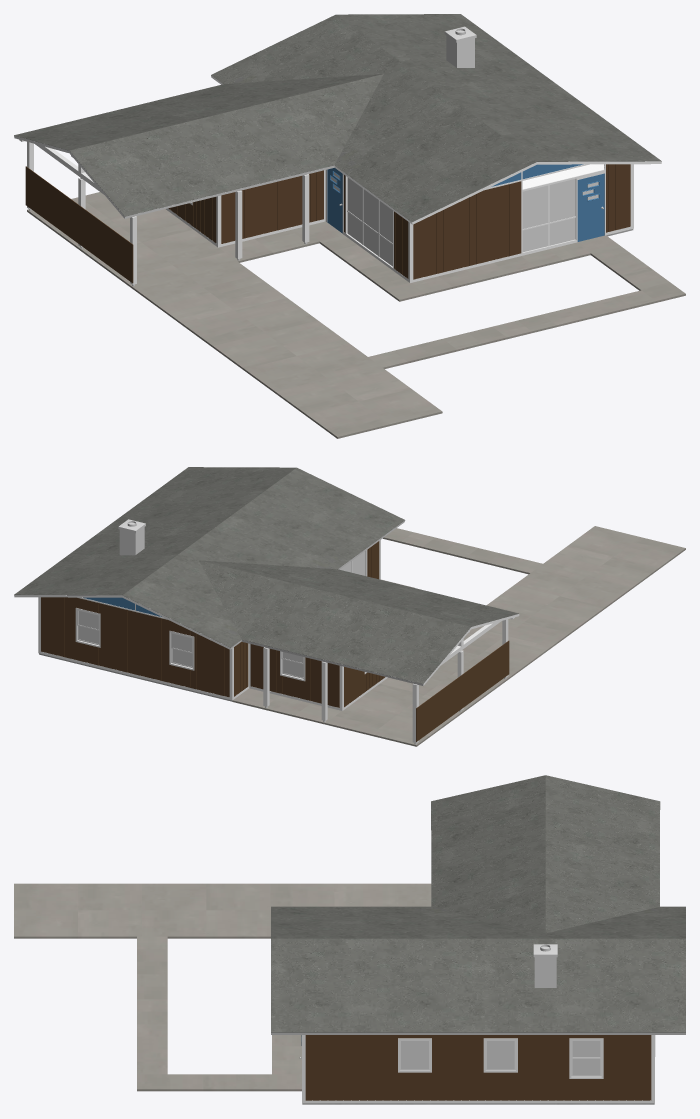
Rendered from casa2b.glb.
The picture shows the model from 3 angles, top to bottom: view 1: azimuth 30°, elevation 25°; view 2: azimuth 150°, elevation 25°; view 3: azimuth 270°, elevation 25°; orthographic projection. The views are drawn at different scales.
Parts seen in each view (by area): view 1: gw-45R3-roof_Asphalt020_0, gw-45R3-concreteTiles_ConcreteSubstance004_0, gw-45R3-walls_plywood_brown_0, gw-45R3-walls_Wood058_0, gw-45R3-window.001_Glass_0, gw-45R3-walls_Accent_Blue_0, gw-45R3-chimney_Metal_White_0; view 2: gw-45R3-roof_Asphalt020_0, gw-45R3-concreteTiles_ConcreteSubstance004_0, gw-45R3-walls_plywood_brown_0, gw-45R3-walls_Wood058_0, gw-45R3-window.001_Glass_0, gw-45R3-chimney_Metal_White_0, gw-45R3-walls_Accent_Blue_0; view 3: gw-45R3-roof_Asphalt020_0, gw-45R3-concreteTiles_ConcreteSubstance004_0, gw-45R3-walls_plywood_brown_0, gw-45R3-walls_Wood058_0, gw-45R3-window.001_Glass_0, gw-45R3-chimney_Metal_White_0, gw-45R3-foundation_Concrete034_0.
Boxes of the visible parts, x1,y1,x2,y2 form: gw-45R3-roof_Asphalt020_0: (14, 14, 661, 222); gw-45R3-concreteTiles_ConcreteSubstance004_0: (27, 192, 685, 438); gw-45R3-walls_plywood_brown_0: (25, 164, 630, 283); gw-45R3-walls_Wood058_0: (14, 75, 661, 284); gw-45R3-window.001_Glass_0: (331, 172, 598, 266); gw-45R3-walls_Accent_Blue_0: (327, 164, 604, 241); gw-45R3-chimney_Metal_White_0: (446, 35, 474, 67); gw-45R3-roof_Asphalt020_0: (14, 467, 518, 683); gw-45R3-concreteTiles_ConcreteSubstance004_0: (232, 526, 685, 746); gw-45R3-walls_plywood_brown_0: (41, 541, 509, 741); gw-45R3-walls_Wood058_0: (14, 520, 519, 743); gw-45R3-window.001_Glass_0: (78, 551, 365, 677); gw-45R3-chimney_Metal_White_0: (119, 527, 144, 555); gw-45R3-walls_Accent_Blue_0: (83, 597, 161, 616); gw-45R3-roof_Asphalt020_0: (271, 775, 685, 1032); gw-45R3-concreteTiles_ConcreteSubstance004_0: (14, 883, 431, 1091); gw-45R3-walls_plywood_brown_0: (305, 1035, 651, 1100); gw-45R3-walls_Wood058_0: (271, 1032, 685, 1103); gw-45R3-window.001_Glass_0: (401, 1041, 600, 1075); gw-45R3-chimney_Metal_White_0: (534, 957, 556, 987); gw-45R3-foundation_Concrete034_0: (302, 1103, 654, 1104).
Size of the model in its own units: 15.53 by 4.1 by 19.08.
10 materials, 4 textured.
